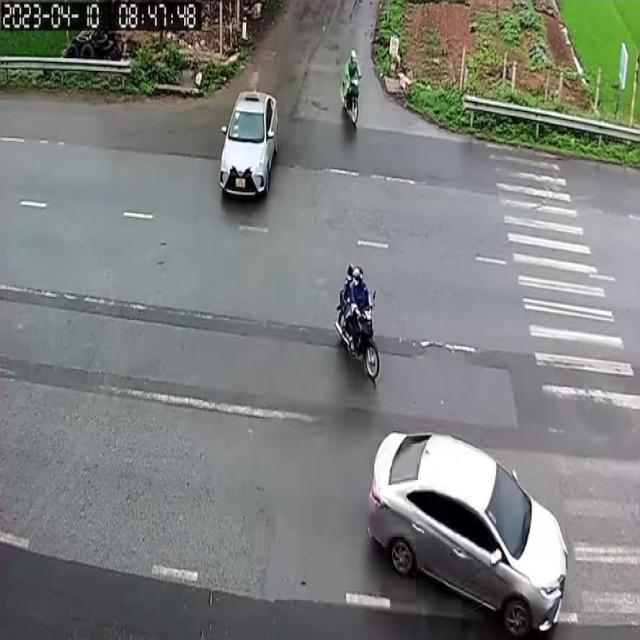normal: (350, 417, 597, 640), (316, 247, 393, 410), (209, 71, 280, 216), (309, 29, 381, 143)
